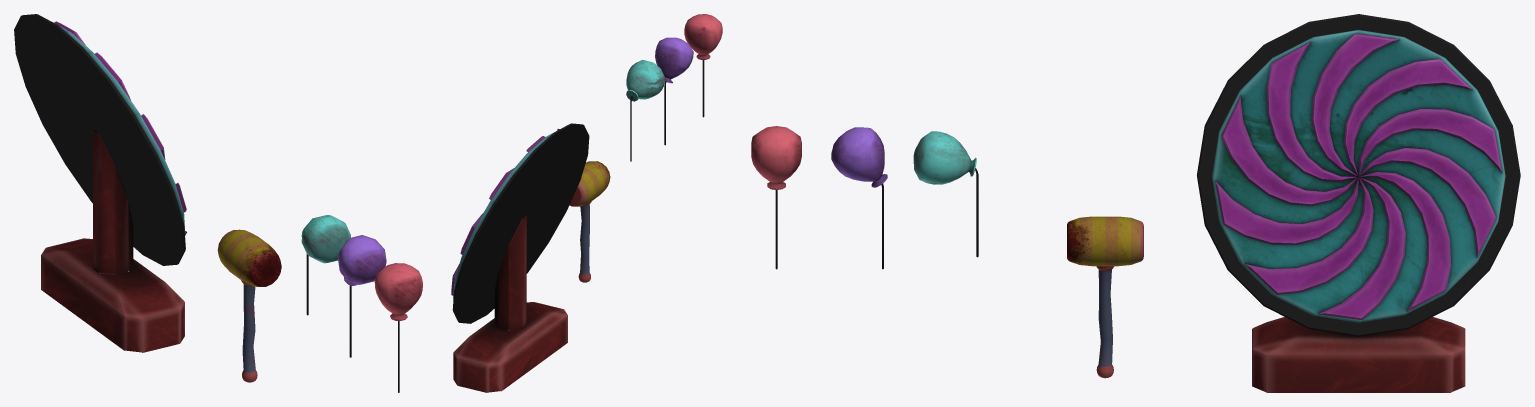
File: props 2.fbx
3 renders of one model, left to right at view 1: azimuth 30°, elevation 25°; view 2: azimuth 150°, elevation 25°; view 3: azimuth 270°, elevation 25°, orthographic. The views are drawn at different scales.
Parts seen in each view (by area): view 1: spiral, hammer, balloon_1, balloon_2, balloon_3; view 2: spiral, hammer, balloon_1, balloon_3, balloon_2; view 3: spiral, hammer, balloon_3, balloon_1, balloon_2.
Boxes of the visible parts, x1,y1,x2,y2 form: spiral: (14,14,186,352); hammer: (217,229,281,382); balloon_1: (374,263,422,392); balloon_2: (338,235,386,357); balloon_3: (301,215,350,315); spiral: (451,123,589,392); hammer: (569,161,610,282); balloon_1: (684,14,722,117); balloon_3: (626,60,665,161); balloon_2: (655,37,693,145); spiral: (1197,14,1520,392); hammer: (1067,216,1143,378); balloon_3: (913,131,978,257); balloon_1: (751,126,801,269); balloon_2: (831,127,887,269).
Size of the model in its own units: 331 by 953 by 1999.
